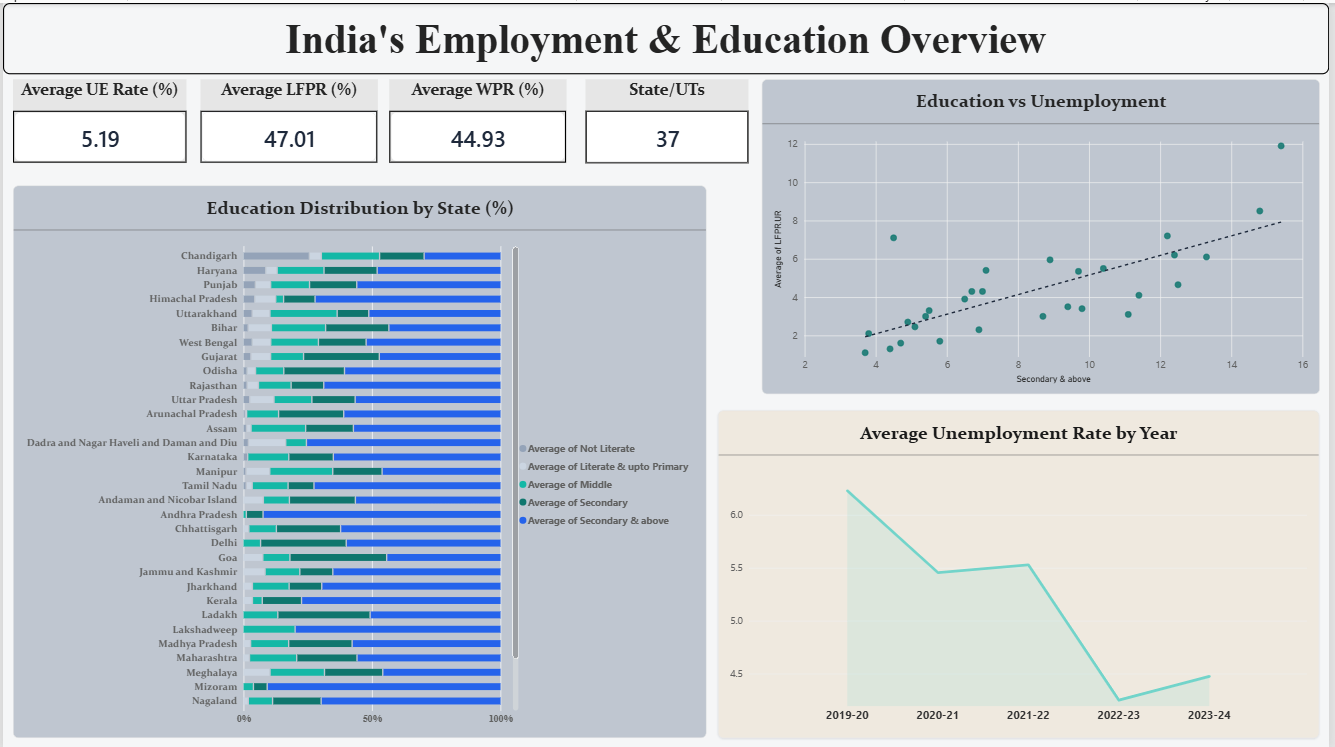

Layout of this report page (visuals, bound fields, positions):
{"tool":"powerbi","page":{"name":"Page 1","canvas":[1920,1080],"ordinal":0},"visuals":[{"type":"lineChart","title":"Average Unemployment Rate by Year","fields":{"Category":["yearwise.Year"],"Y":["Avg(yearwise.UR_Value)"]},"box":[1036,590,870,474],"z":0},{"type":"scatterChart","title":"Education vs Unemployment","fields":{"X":["education.Secondary & above"],"Y":["education.LFPR.UR"]},"box":[1098,110,808,456],"z":1000},{"type":"hundredPercentStackedBarChart","title":"Education Distribution by State (%)","fields":{"Category":["education.State/UT"],"Y":["Avg(education.Not Literate)","Avg(education.Literate & upto Primary)","Avg(education.Middle)","Avg(education.Secondary)","Avg(education.Secondary & above)"]},"box":[14,264,1004,800],"z":2000},{"type":"cardVisual","title":"Average UE Rate (%)","fields":{"Data":["Avg(yearwise.UR_Value)"]},"box":[14,110,251.5,121.2],"z":3000},{"type":"cardVisual","title":"Average LFPR (%)","fields":{"Data":["Avg(LFPR.LFPR)"]},"box":[286,110,257,121.2],"z":4000},{"type":"cardVisual","title":"Average WPR (%)","fields":{"Data":["Avg(LFPR.WPR)"]},"box":[560,110,257,121.2],"z":5000},{"type":"cardVisual","title":"State/UTs","fields":{"Data":["Count(yearwise.State/UT)"]},"box":[842.9,110.2,236,122],"z":6000},{"type":"textbox","box":[0,0,1920.1,103.2],"z":7000}]}

Visuals, with their boxes in screenshot pixels (x1, y1, x2, y2), scaled from the page's 1920x1080 canvas onto the 1335x747 screenshot:
"Average Unemployment Rate by Year" lineChart: box=[720, 408, 1325, 736]
"Education vs Unemployment" scatterChart: box=[763, 76, 1325, 391]
"Education Distribution by State (%)" hundredPercentStackedBarChart: box=[10, 183, 708, 736]
"Average UE Rate (%)" cardVisual: box=[10, 76, 185, 160]
"Average LFPR (%)" cardVisual: box=[199, 76, 378, 160]
"Average WPR (%)" cardVisual: box=[389, 76, 568, 160]
"State/UTs" cardVisual: box=[586, 76, 750, 161]
textbox: box=[0, 0, 1334, 71]
